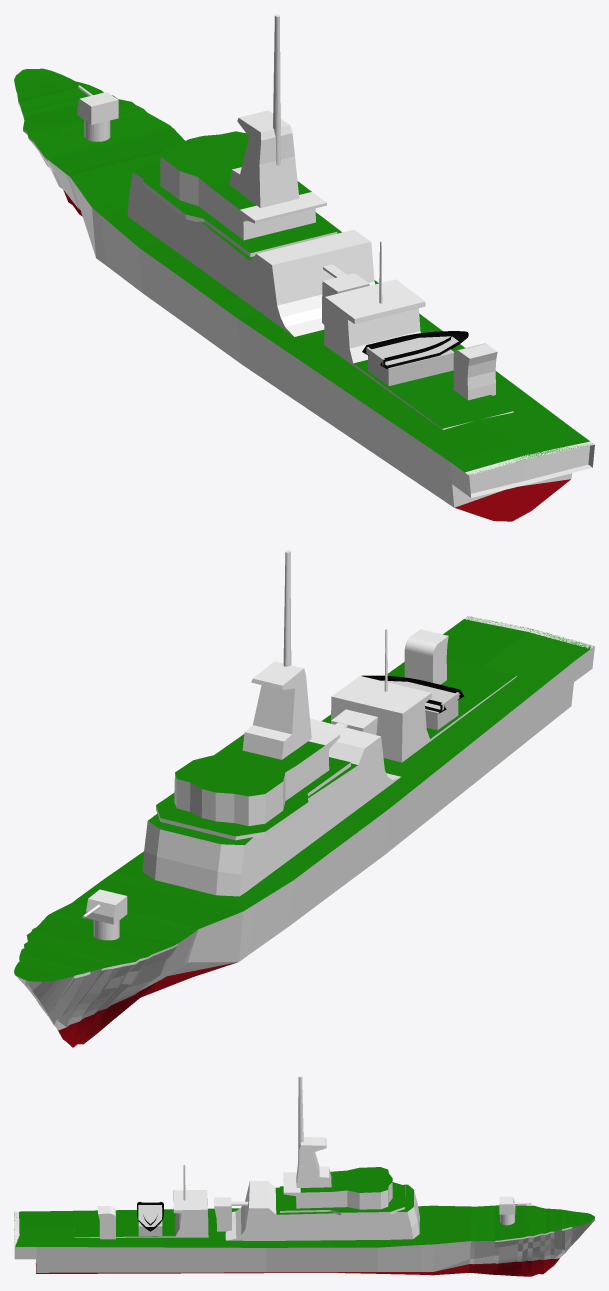
The model's file is building.glb.
The picture shows the model from 3 angles, top to bottom: view 1: azimuth 30°, elevation 25°; view 2: azimuth 150°, elevation 25°; view 3: azimuth 270°, elevation 25°; orthographic projection. The views are drawn at different scales.
Visible parts, largest first — view 1: 船体, 上甲板01, 上甲板03, 船橋, マスト台, 船橋床板, GB本体, 後部ファンネル, Cube, 砲台, 前部マスト, 上甲板02; view 2: 船体, 上甲板01, 船橋, 上甲板03, マスト台, 船橋床板, 後部ファンネル, GB本体, 砲台, 前部マスト, 上甲板02; view 3: 船体, 上甲板01, 船橋, 上甲板03, マスト台, 船橋床板, GB本体, 後部ファンネル, 上甲板02, 前部マスト, 砲台.
Part boxes in pixels (x1,y1,x2,y2): 船体: (14, 68, 594, 521); 上甲板01: (127, 160, 374, 336); 上甲板03: (324, 279, 513, 429); 船橋: (160, 131, 326, 240); マスト台: (229, 110, 299, 207); 船橋床板: (143, 164, 337, 257); GB本体: (362, 331, 468, 368); 後部ファンネル: (453, 343, 497, 400); Cube: (368, 349, 453, 385); 砲台: (77, 92, 118, 124); 前部マスト: (273, 14, 280, 165); 上甲板02: (322, 273, 369, 324); 船体: (14, 616, 594, 1047); 上甲板01: (142, 718, 401, 896); 船橋: (174, 727, 339, 825); 上甲板03: (331, 659, 516, 762); マスト台: (242, 661, 311, 759); 船橋床板: (156, 757, 350, 840); 後部ファンネル: (404, 629, 448, 684); GB本体: (361, 675, 464, 713); 砲台: (86, 889, 127, 924); 前部マスト: (283, 550, 291, 666); 上甲板02: (331, 709, 377, 734); 船体: (14, 1205, 594, 1276); 上甲板01: (225, 1180, 419, 1240); 船橋: (283, 1167, 392, 1209); 上甲板03: (73, 1190, 208, 1237); マスト台: (296, 1137, 331, 1187); 船橋床板: (279, 1182, 405, 1215); GB本体: (137, 1202, 163, 1231); 後部ファンネル: (97, 1206, 115, 1239); 上甲板02: (214, 1197, 231, 1231); 前部マスト: (298, 1076, 303, 1162); 砲台: (499, 1196, 515, 1214).
Bounding box in the file's own units: 8.07 × 18.58 × 49.17.
